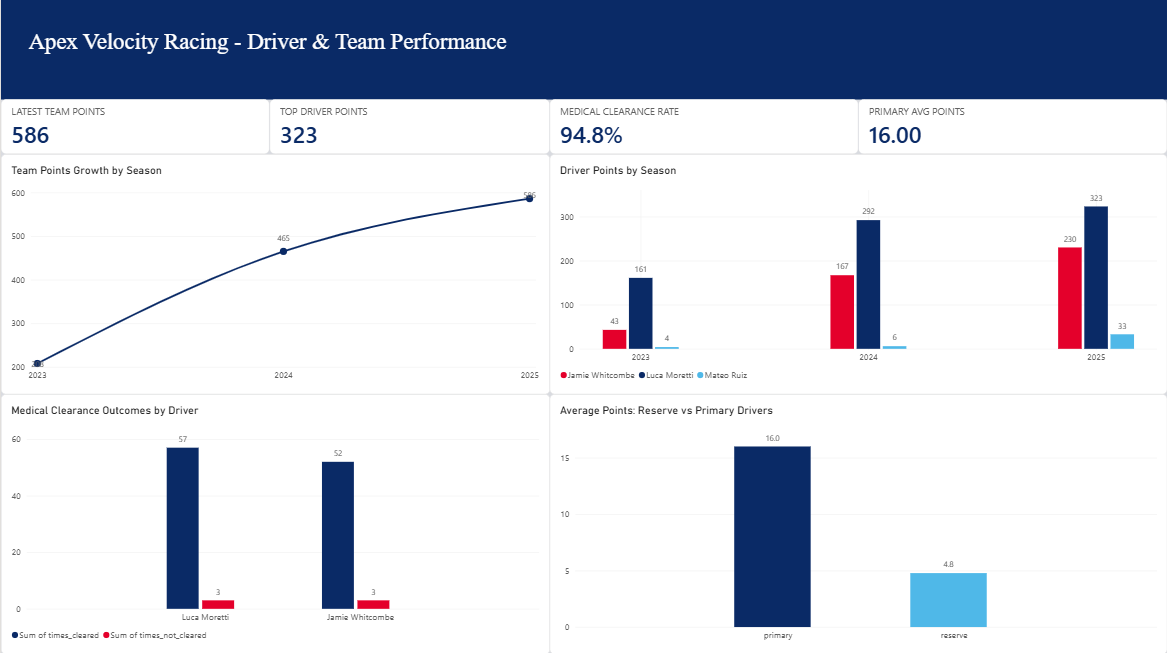

The page's visual inventory and layout, read from the dashboard file:
{"tool":"powerbi","page":{"name":"Driver & Team Performance","canvas":[1920,1080],"ordinal":1},"visuals":[{"type":"shape","box":[0,0,1920.4,167.3],"z":0},{"type":"textbox","box":[44.5,49.8,1315.2,117.5],"z":1000},{"type":"cardVisual","fields":{"Data":["Sum(Q4_season_over_season_results_PARTA.total_points)"]},"box":[0,166.7,442.5,90.6],"z":2000},{"type":"cardVisual","fields":{"Data":["Max(Q4_season_over_season_results_PARTB.season_points)"]},"box":[442.5,166.7,461.1,90.6],"z":3000},{"type":"cardVisual","fields":{"Data":["Q1_fitness_vs_pace_results.Medical Clearance Rate"]},"box":[903.6,166.7,508.4,90.6],"z":4000},{"type":"cardVisual","fields":{"Data":["Sum(Q5_medical_clearance_and_swaps_results_PARTB.avg_points)"]},"box":[1412,166.7,508.4,90.6],"z":5000},{"type":"lineChart","title":"Team Points Growth by Season","fields":{"Category":["Q4_season_over_season_results_PARTA.season_year"],"Y":["Sum(Q4_season_over_season_results_PARTA.total_points)"]},"box":[0,257.3,903.6,395.2],"z":6000},{"type":"clusteredColumnChart","title":"Driver Points by Season","fields":{"Category":["Q4_season_over_season_results_PARTB.season_year"],"Series":["Q4_season_over_season_results_PARTB.driver_name"],"Y":["Sum(Q4_season_over_season_results_PARTB.season_points)"]},"box":[903.6,257.3,1016.8,395.2],"z":7000},{"type":"clusteredColumnChart","title":"Medical Clearance Outcomes by Driver","fields":{"Category":["Q5_medical_clearance_and_swaps_results_PARTA.driver_name"],"Y":["Sum(Q5_medical_clearance_and_swaps_results_PARTA.times_cleared)","Sum(Q5_medical_clearance_and_swaps_results_PARTA.times_not_cleared)"]},"box":[0,652.5,903.6,428.1],"z":8000},{"type":"clusteredColumnChart","title":"Average Points: Reserve vs Primary Drivers","fields":{"Category":["Q5_medical_clearance_and_swaps_results_PARTB.driver_type"],"Y":["Sum(Q5_medical_clearance_and_swaps_results_PARTB.avg_points)"]},"box":[903.6,652.5,1016.8,428.1],"z":9000}]}

Visuals, with their boxes in screenshot pixels (x1, y1, x2, y2), scaled from the page's 1920x1080 canvas onto the 1167x653 screenshot:
shape: [0, 0, 1166, 101]
textbox: [27, 30, 826, 101]
cardVisual - Sum(Q4_season_over_season_results_PARTA.total_points): [0, 101, 269, 156]
cardVisual - Max(Q4_season_over_season_results_PARTB.season_points): [269, 101, 549, 156]
cardVisual - Q1_fitness_vs_pace_results.Medical Clearance Rate: [549, 101, 858, 156]
cardVisual - Sum(Q5_medical_clearance_and_swaps_results_PARTB.avg_points): [858, 101, 1166, 156]
"Team Points Growth by Season" lineChart: [0, 156, 549, 395]
"Driver Points by Season" clusteredColumnChart: [549, 156, 1166, 395]
"Medical Clearance Outcomes by Driver" clusteredColumnChart: [0, 395, 549, 652]
"Average Points: Reserve vs Primary Drivers" clusteredColumnChart: [549, 395, 1166, 652]
